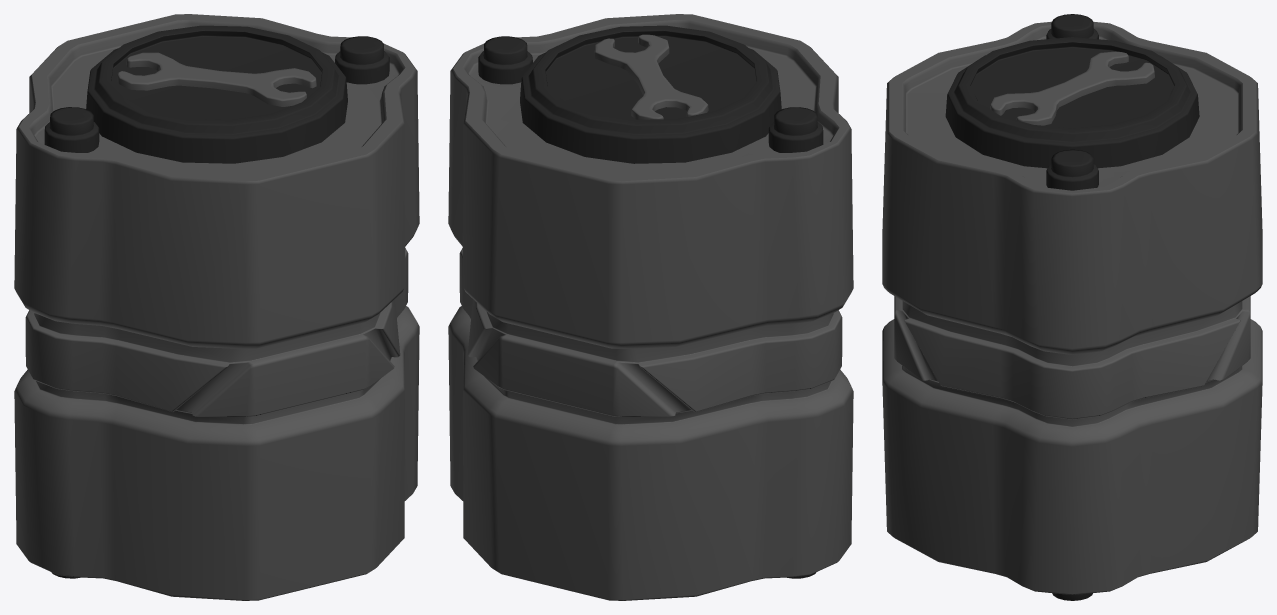
The model's file is _Big_medication.fbx.
3 renders of one model, left to right at view 1: azimuth 30°, elevation 25°; view 2: azimuth 150°, elevation 25°; view 3: azimuth 270°, elevation 25°, orthographic. The views are drawn at different scales.
Parts seen in each view (by area): view 1: Big_medication; view 2: Big_medication; view 3: Big_medication.
Boxes of the visible parts, bbox=[...] form: Big_medication: bbox=[14, 14, 419, 600]; Big_medication: bbox=[448, 14, 853, 600]; Big_medication: bbox=[882, 14, 1262, 600].
Bounding box in the file's own units: 91.48 × 105 × 81.36.
1 material, 1 textured.
